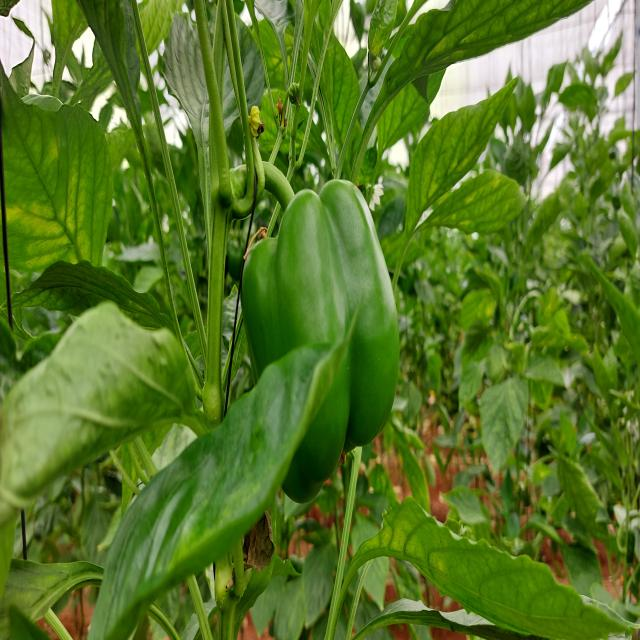Green--Not-ready-to-harvest: (226, 187, 402, 501)
